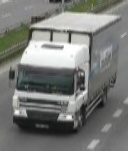truck: (4, 11, 125, 135)
